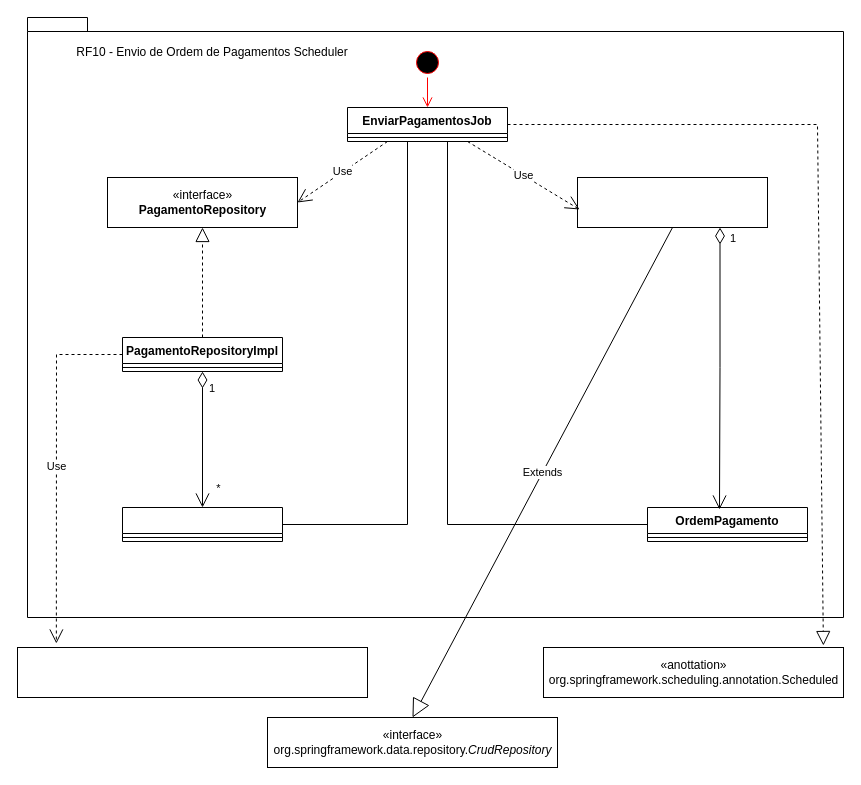
Image size: 861x785. Some labels were removed from this diagram. The shapes that lost their labels are listed below. From the top down, each one's box as (x1, y1, x2, y2) in pixels, then its label:
(576, 176, 768, 228): «interface» OrdemPagamentoRepository
(122, 506, 282, 542): Pagamento
(16, 646, 368, 698): «interface» org.springframework.web.reactive.function.client.WebClient
